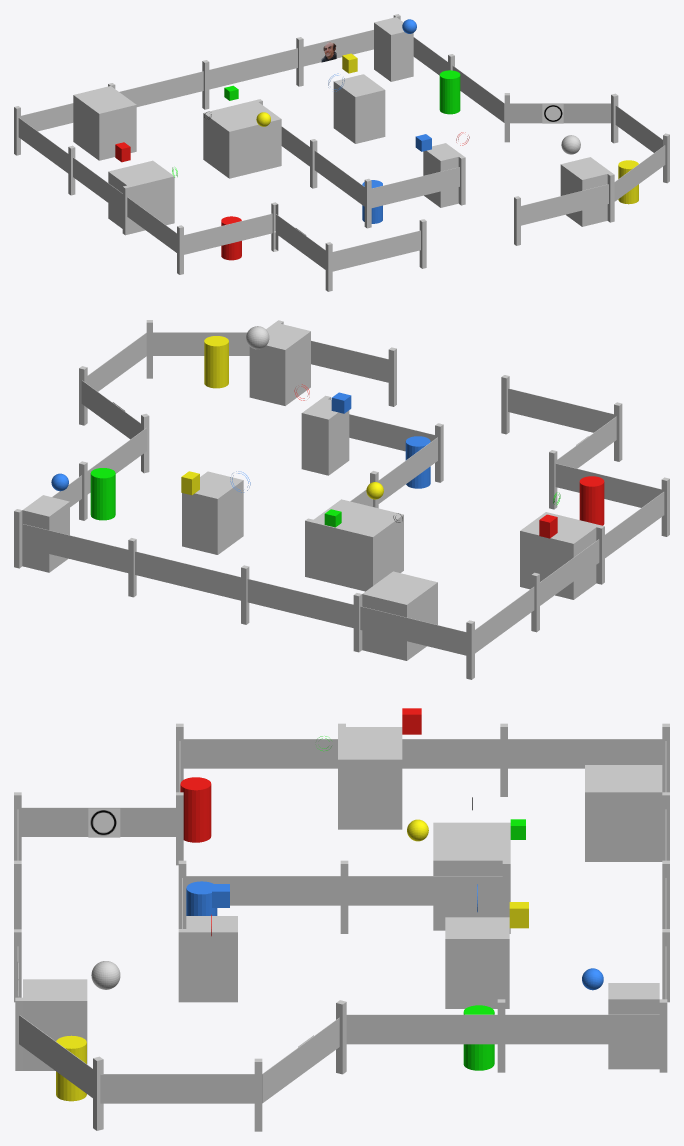
File: rins_task1_final.dae
3 views of the same model, one above another, from view 1: azimuth 30°, elevation 25°; view 2: azimuth 150°, elevation 25°; view 3: azimuth 270°, elevation 25° (orthographic). The views are drawn at different scales.
Parts seen in each view (by area): view 1: SketchUp (×25); view 2: SketchUp (×25); view 3: SketchUp (×24).
Boxes of the visible parts, x1,y1,x2,y2 form: SketchUp (×25): (14,14,669,291); SketchUp (×25): (14,320,669,679); SketchUp (×24): (15,723,669,1131).
Size of the model in its own units: 245 by 201 by 33.48.
